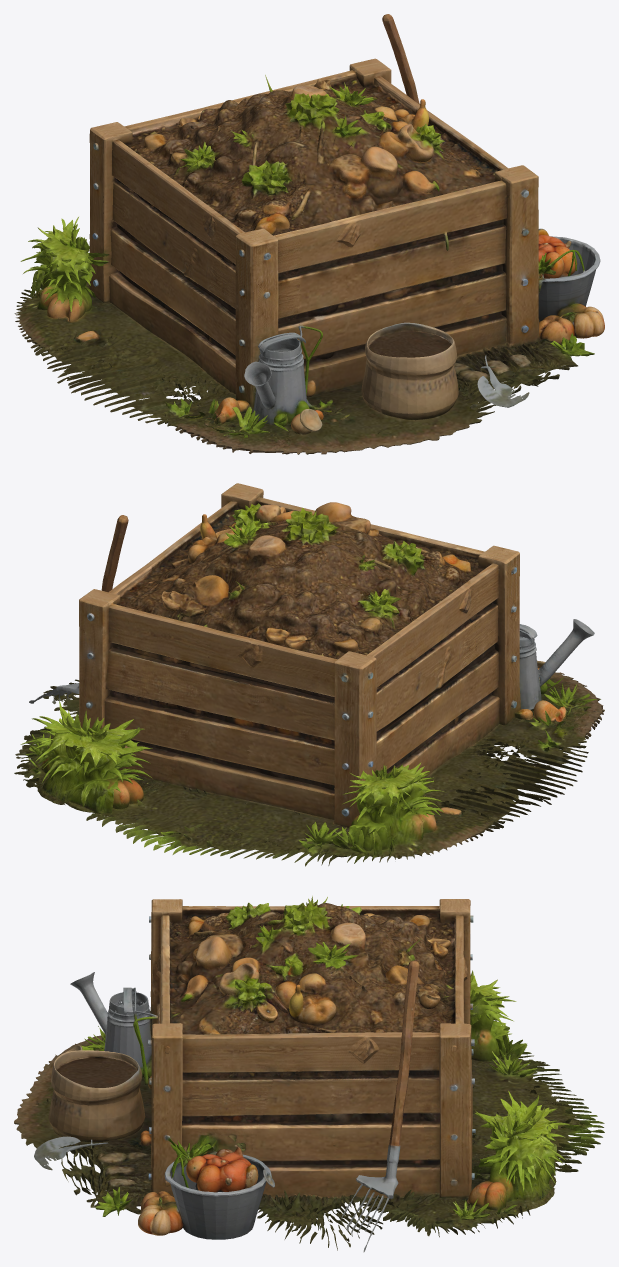
File: compost-pit.glb
The picture shows the model from 3 angles, top to bottom: view 1: azimuth 30°, elevation 25°; view 2: azimuth 150°, elevation 25°; view 3: azimuth 270°, elevation 25°; orthographic projection.
Visible parts, largest first — view 1: tripo_node_84eb3cc3-cae6-4991-9498-44404cf183f0; view 2: tripo_node_84eb3cc3-cae6-4991-9498-44404cf183f0; view 3: tripo_node_84eb3cc3-cae6-4991-9498-44404cf183f0.
Boxes of the visible parts, bbox=[...] form: tripo_node_84eb3cc3-cae6-4991-9498-44404cf183f0: bbox=[14, 14, 604, 454]; tripo_node_84eb3cc3-cae6-4991-9498-44404cf183f0: bbox=[14, 483, 604, 866]; tripo_node_84eb3cc3-cae6-4991-9498-44404cf183f0: bbox=[14, 896, 604, 1252].
Bounding box in the file's own units: 0.9609 × 0.4393 × 0.9926.
Materials: 1 (1 with a texture image).
